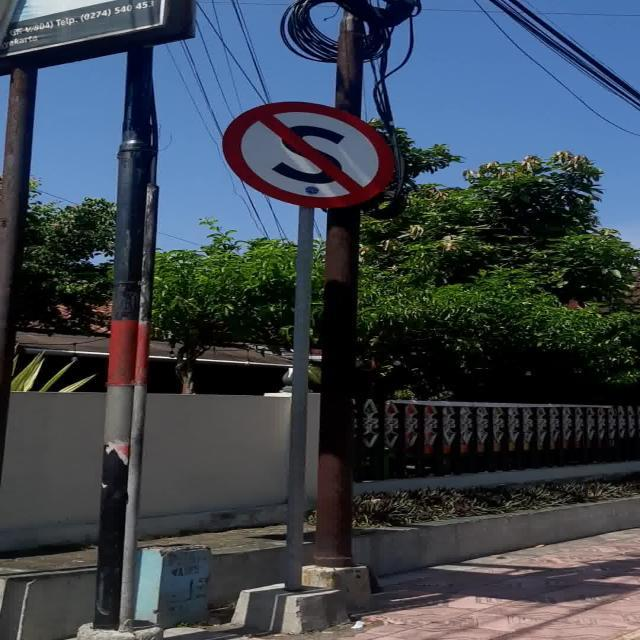Dilarang Berhenti: (222, 101, 394, 208)
